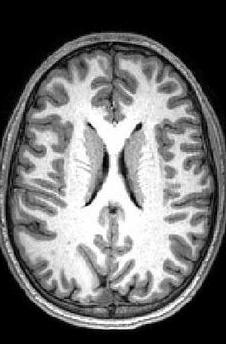Normal_Brain: (1, 1, 224, 344)
